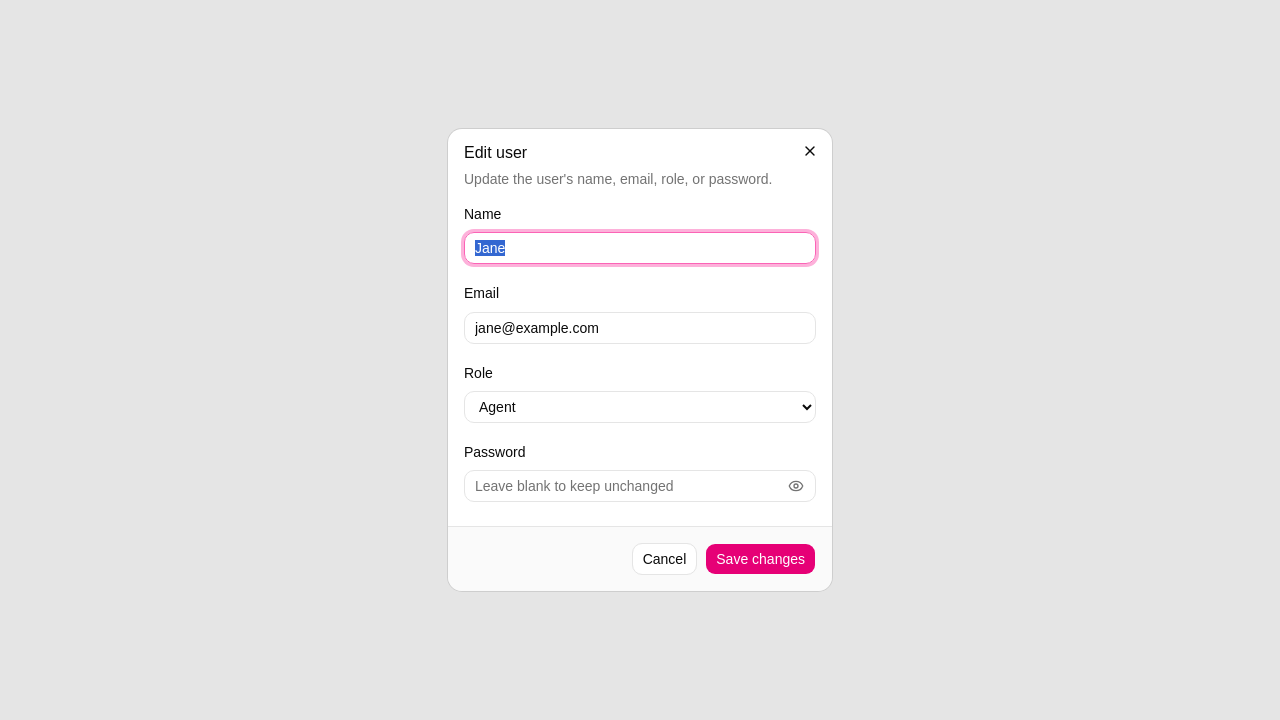
Scenario: EditUserDialog › shows a server error in the dialog when updateUser rejects
The width and height of the screenshot is (1280, 720).
Click the button "Save changes". click: (761, 559)
box: [705,543,816,575]
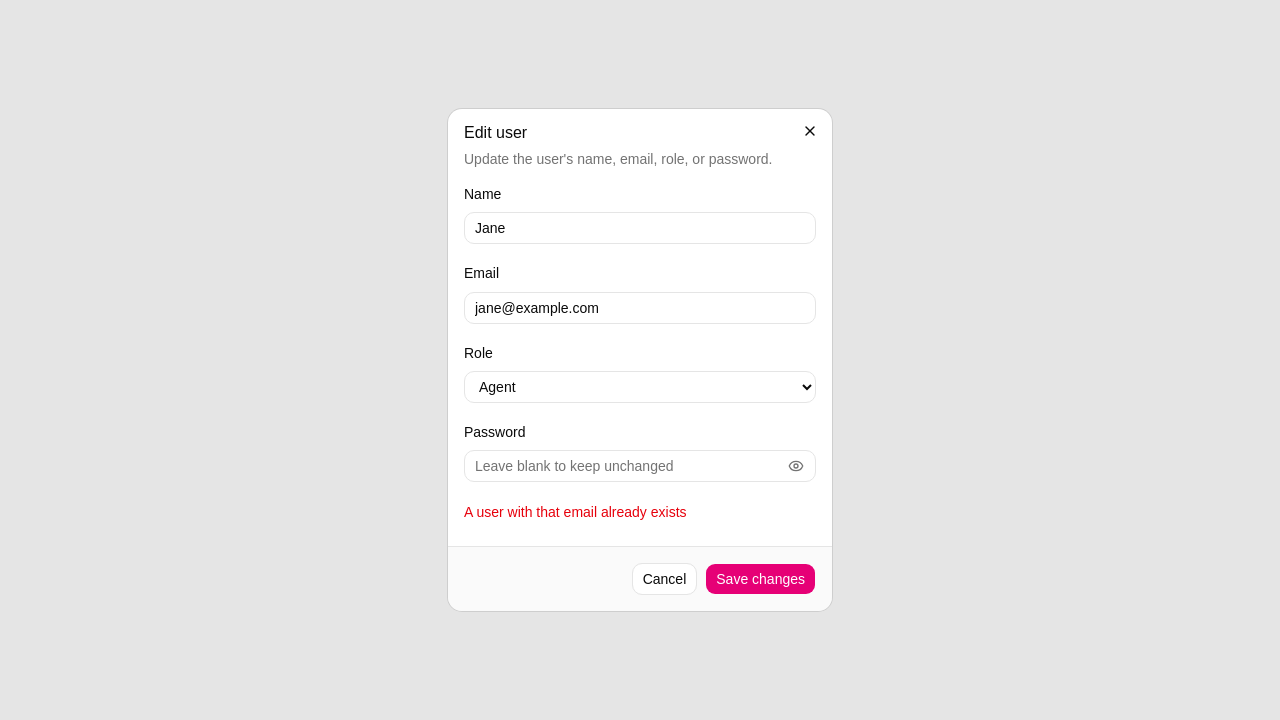
Expected: the dialog is shown, [448,109,832,611]
Expected: the text "A user with that email already exists" is shown, [464,504,686,520]
